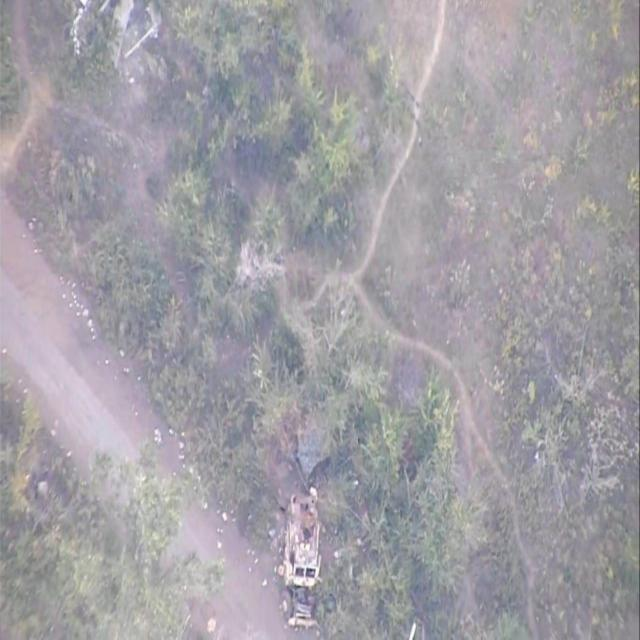Destroyed: (282, 491, 324, 629)
